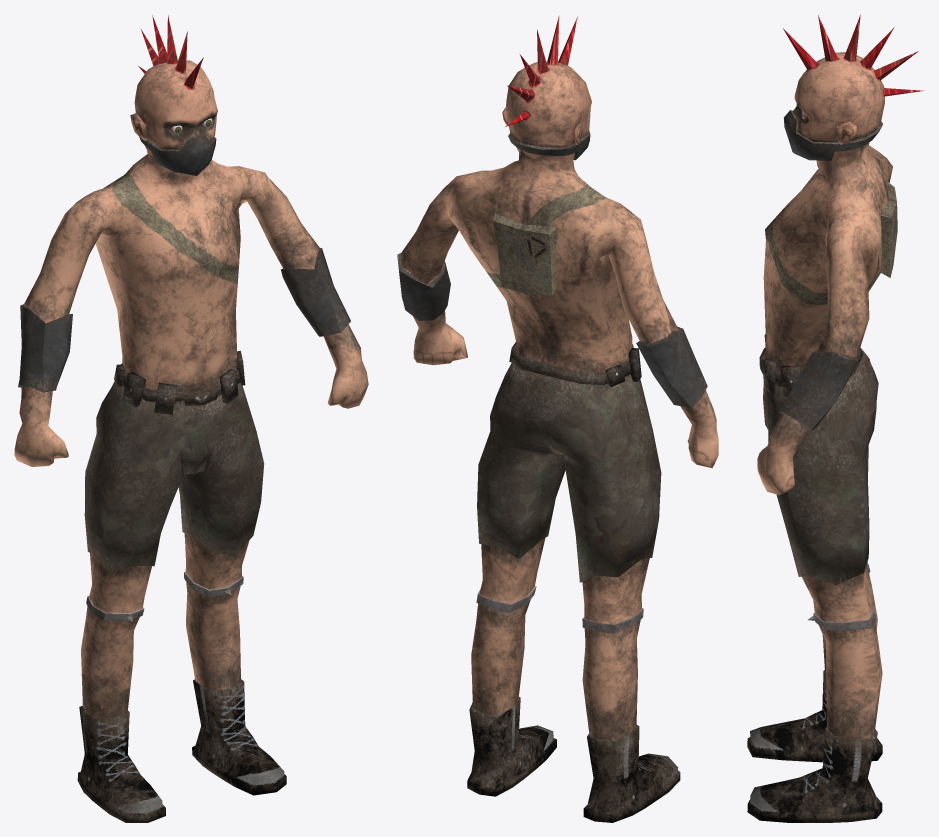
Rendered from Anim_idle_npc2.0052.obj.
3 views of the same model, side by side, from view 1: azimuth 30°, elevation 25°; view 2: azimuth 150°, elevation 25°; view 3: azimuth 270°, elevation 25° (orthographic). The views are drawn at different scales.
Visible parts, largest first — view 1: polySurface1; view 2: polySurface1; view 3: polySurface1.
Boxes of the visible parts, <box> form: polySurface1: <box>14,15,368,822</box>; polySurface1: <box>397,15,718,822</box>; polySurface1: <box>747,15,924,822</box>.
Bounding box in the file's own units: 4.59 × 10.17 × 2.11.
